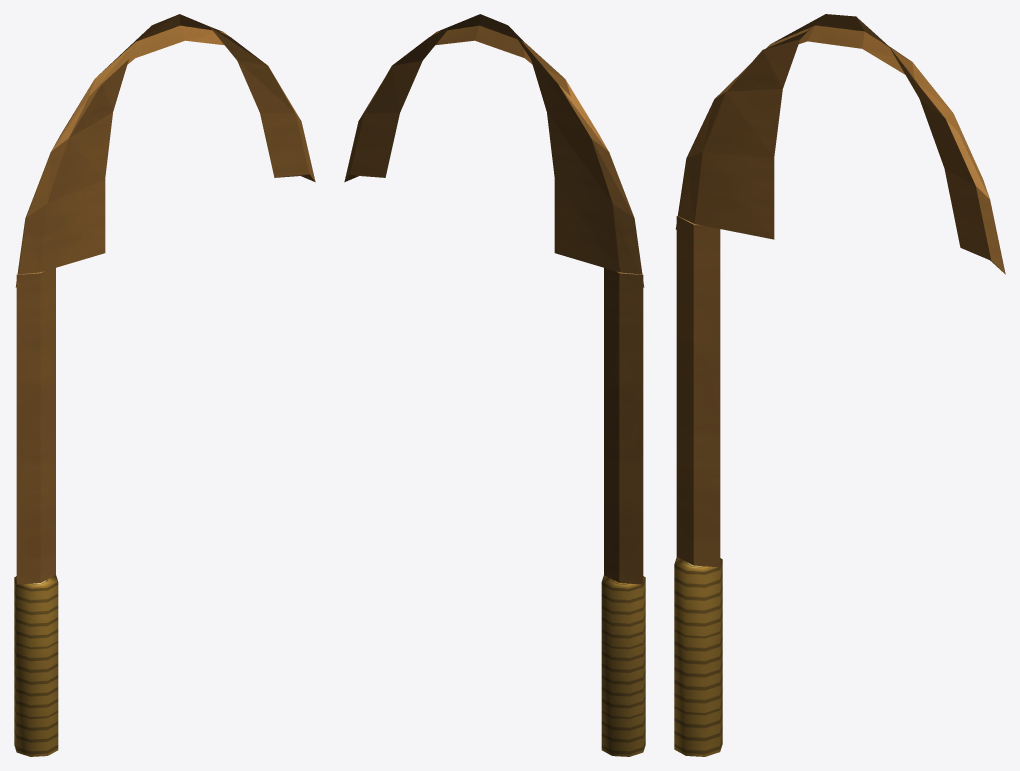
Rendered from khopesh.glb.
The picture shows the model from 3 angles, left to right: view 1: azimuth 30°, elevation 25°; view 2: azimuth 150°, elevation 25°; view 3: azimuth 330°, elevation 25°; orthographic projection. The views are drawn at different scales.
Parts seen in each view (by area): view 1: khopesh; view 2: khopesh; view 3: khopesh.
Boxes of the visible parts, x1=… form: khopesh: x1=14, y1=14, x2=315, y2=756; khopesh: x1=344, y1=14, x2=645, y2=756; khopesh: x1=674, y1=14, x2=1005, y2=756.
Bounding box in the file's own units: 0.2431 × 0.5411 × 0.032.
Materials: 1 (1 with a texture image).
